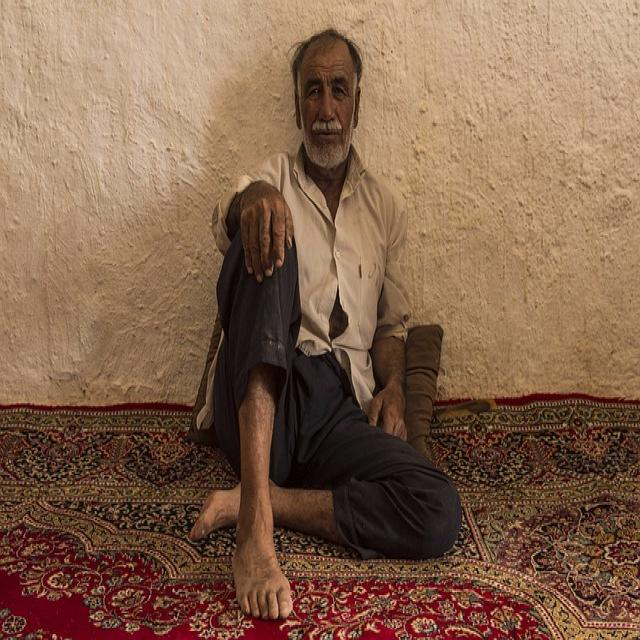Real human 2: (180, 18, 478, 640)
